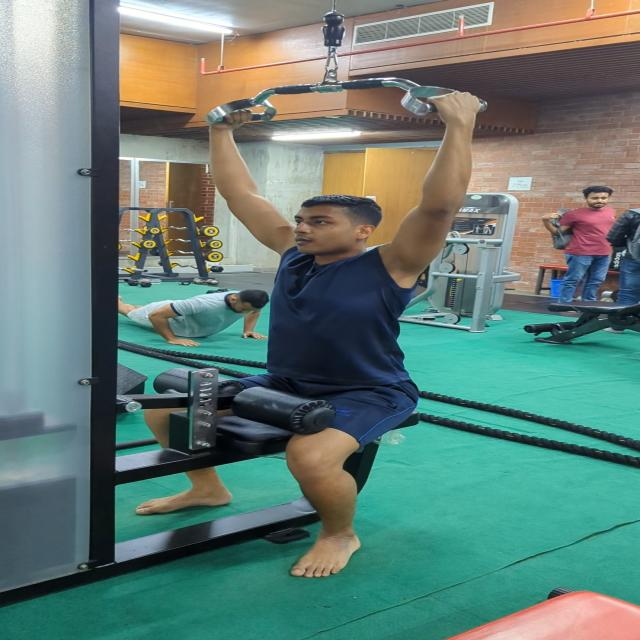Normal_LatPulldown: (130, 88, 495, 587)
